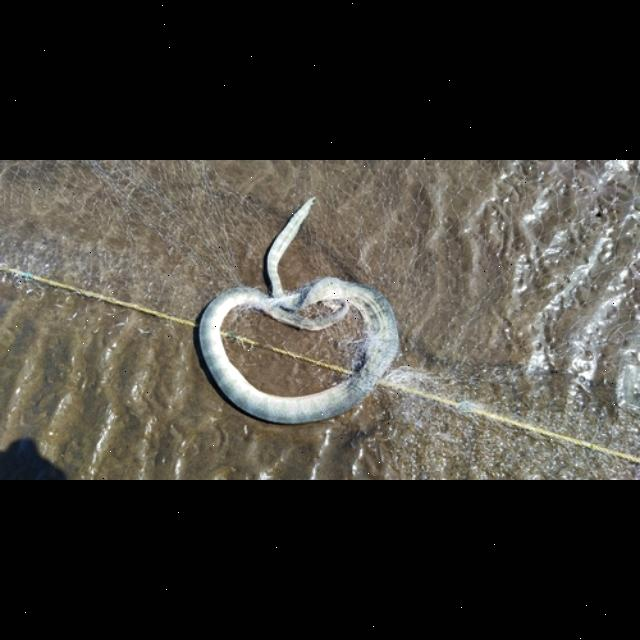snake: (191, 198, 401, 426)
